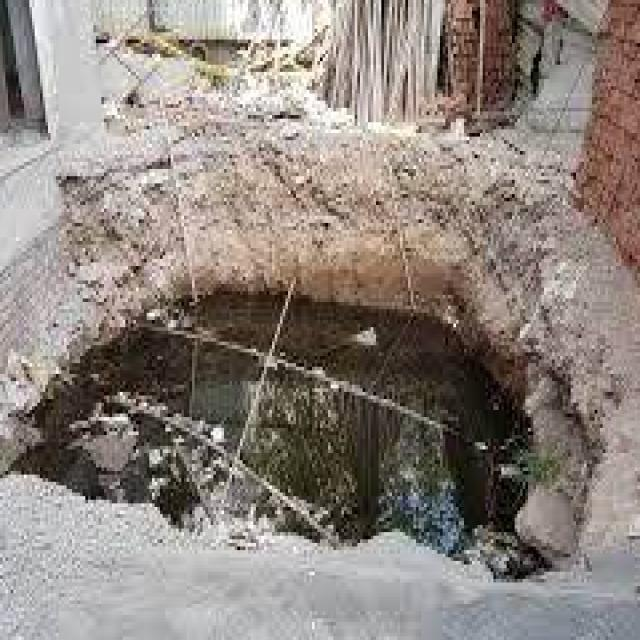Breeding Place: (0, 297, 563, 585)
